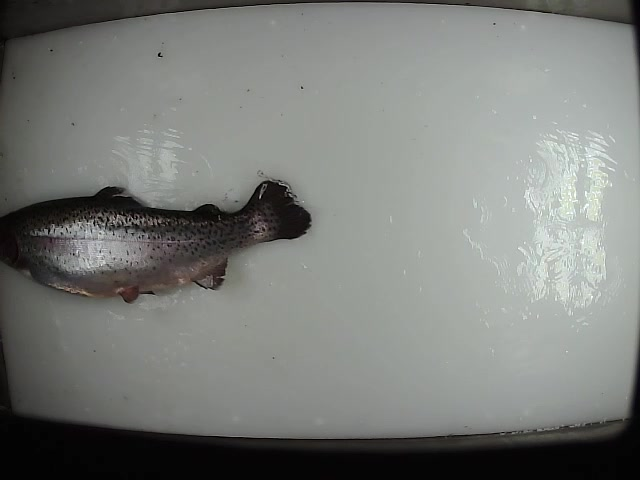fish: (1, 178, 312, 305)
